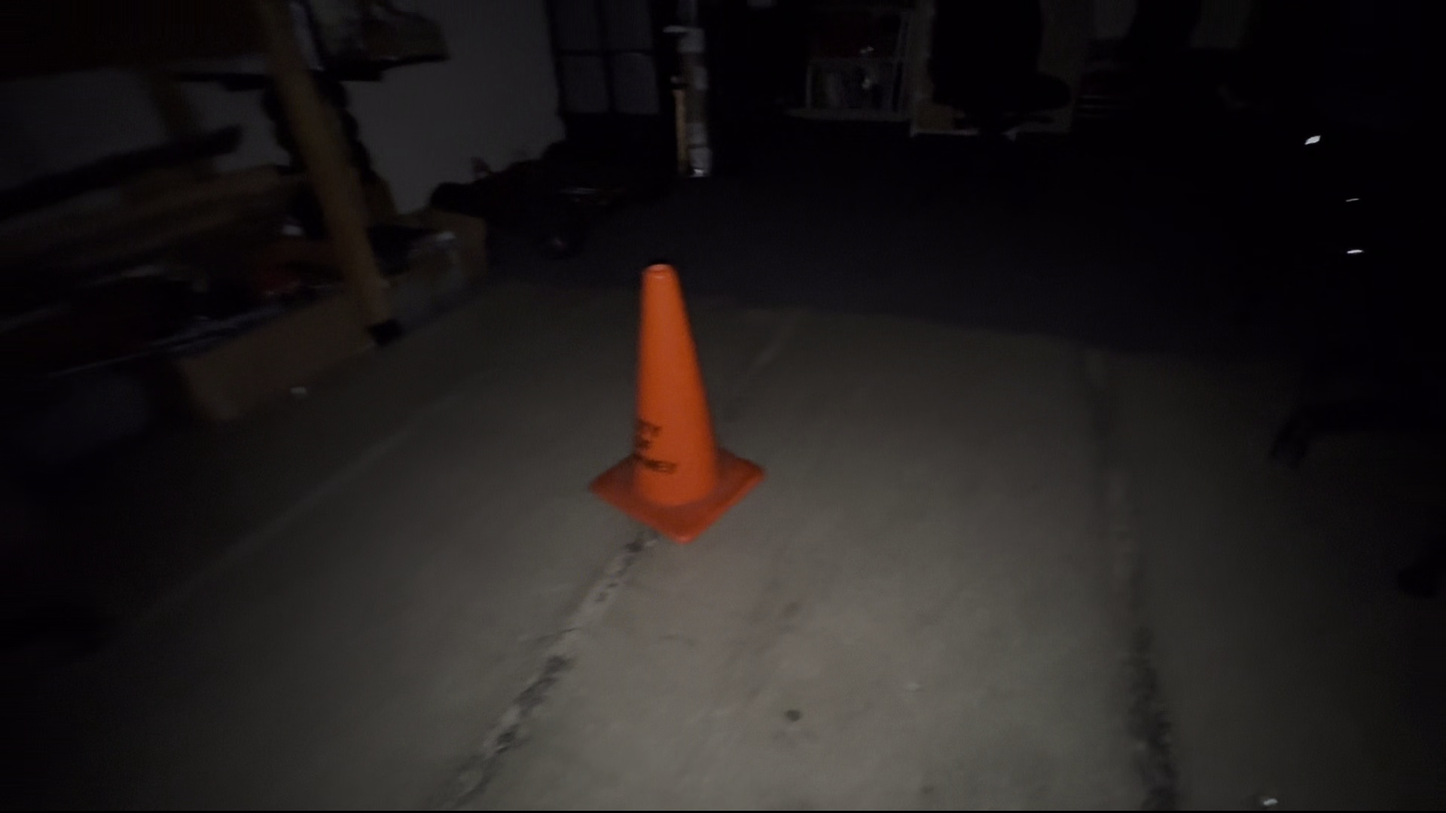traffic_cone: (587, 262, 765, 545)
